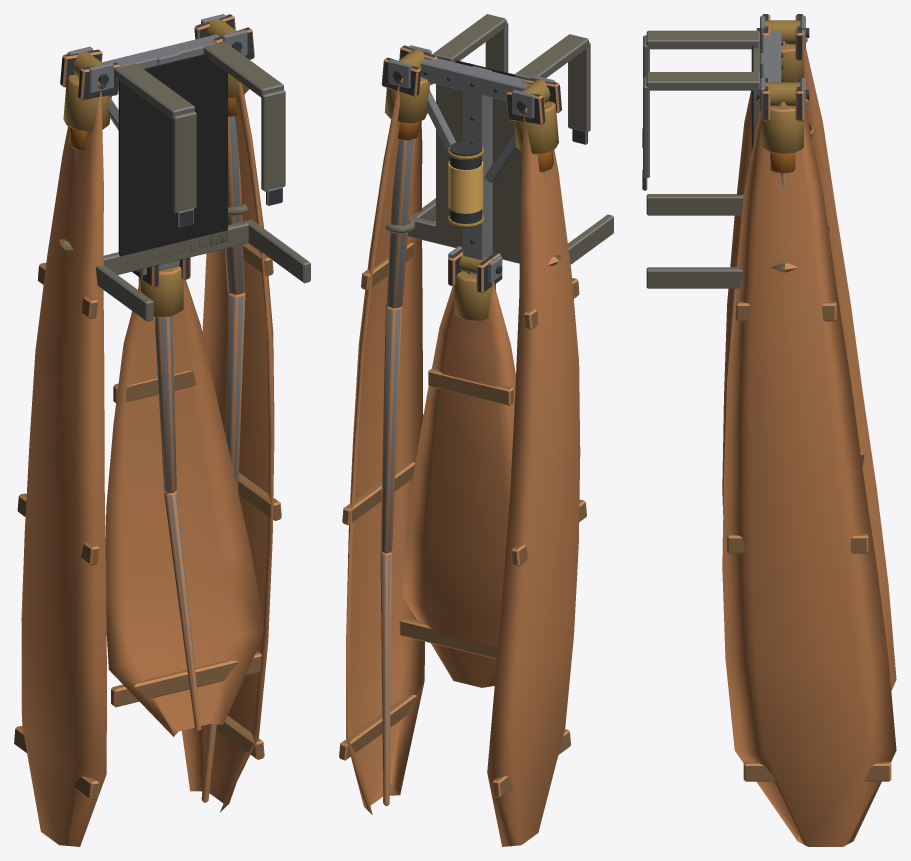
Rendered from wingsuit.fbx.
The picture shows the model from 3 angles, left to right: view 1: azimuth 30°, elevation 25°; view 2: azimuth 150°, elevation 25°; view 3: azimuth 270°, elevation 25°; orthographic projection. The views are drawn at different scales.
Visible parts, largest first — view 1: Mesh_WingBlade_Secondary_R, Mesh_WingBlade_TailFan, Mesh_WingHarness_Spar, Mesh_WingBlade_Secondary_L; view 2: Mesh_WingBlade_Secondary_R, Mesh_WingBlade_Secondary_L, Mesh_WingBlade_TailFan, Mesh_WingHarness_Spar; view 3: Mesh_WingBlade_Secondary_L, Mesh_WingHarness_Spar, Mesh_WingBlade_Secondary_R.
Part boxes in pixels (bbox=[...]): Mesh_WingBlade_Secondary_R: bbox=[14, 49, 120, 846]; Mesh_WingBlade_TailFan: bbox=[105, 257, 263, 736]; Mesh_WingHarness_Spar: bbox=[67, 14, 310, 321]; Mesh_WingBlade_Secondary_L: bbox=[182, 14, 281, 812]; Mesh_WingBlade_Secondary_R: bbox=[487, 78, 586, 846]; Mesh_WingBlade_Secondary_L: bbox=[339, 45, 437, 814]; Mesh_WingBlade_TailFan: bbox=[399, 248, 515, 687]; Mesh_WingHarness_Spar: bbox=[388, 14, 613, 282]; Mesh_WingBlade_Secondary_L: bbox=[722, 78, 896, 846]; Mesh_WingHarness_Spar: bbox=[642, 16, 814, 288]; Mesh_WingBlade_Secondary_R: bbox=[722, 14, 896, 690].
Bounding box in the file's own units: 62.9 × 239 × 72.69.
